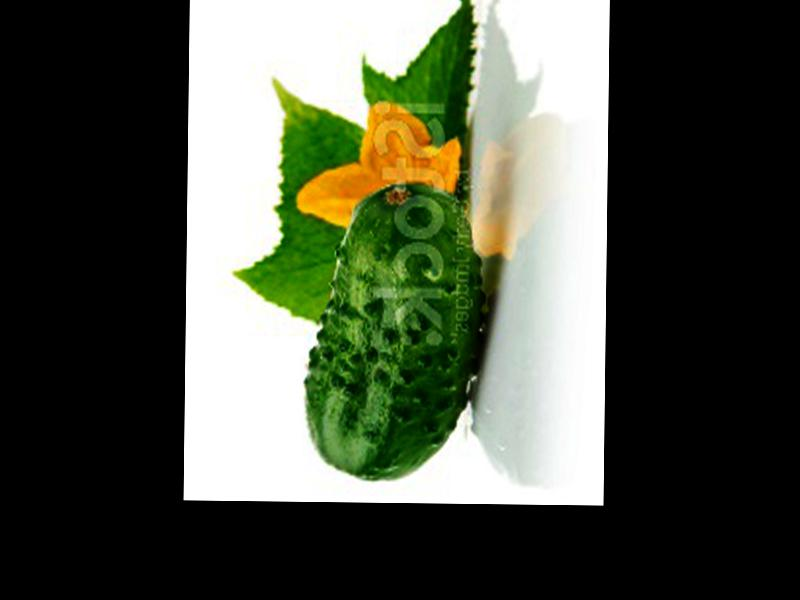Cucumber: (304, 186, 483, 482)
